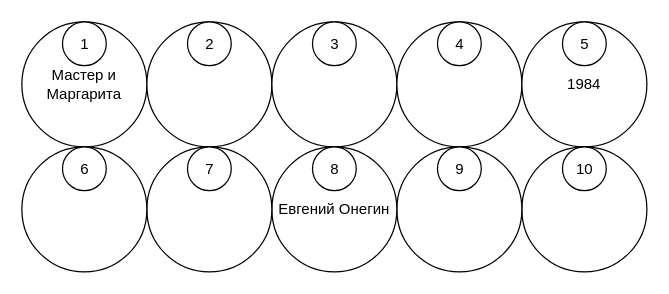
Some shapes in this 669 by 294 pixel diagram are drawn without their labels. The box of each missing label's shape, as (x1, y1, x2, y2) in pixels:
Анна Каренина: (396, 21, 522, 147)
Война и мир: (271, 21, 397, 147)
Герой нашего времени: (146, 146, 272, 272)
Горе от ума: (21, 146, 147, 272)
Маленький принц: (396, 146, 522, 272)
Мертвые души: (521, 146, 647, 272)
Преступление и наказание: (146, 21, 272, 147)
